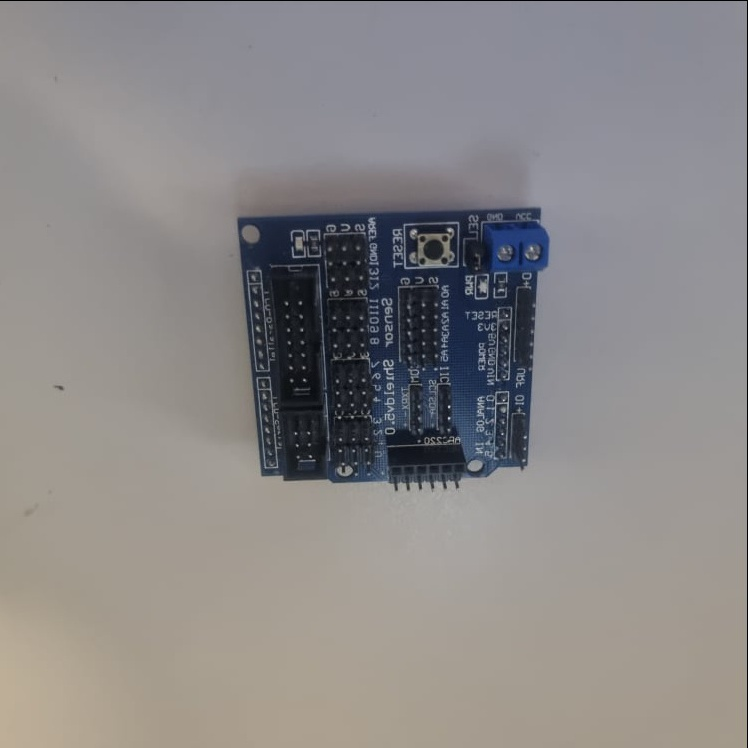5V EXPANSION: (239, 203, 552, 488)
